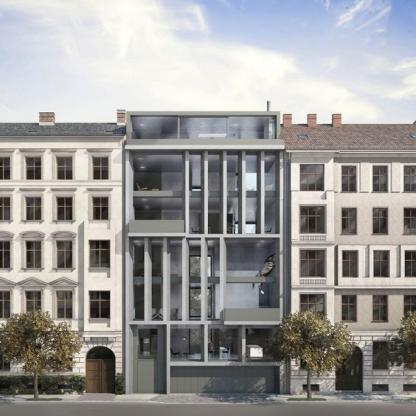Building Outline: (125, 100, 285, 395)
Door: (137, 361, 157, 394)
Facade: (125, 100, 285, 395)
Floor Slab: (126, 321, 284, 329), (126, 277, 284, 284), (126, 190, 284, 197), (126, 143, 284, 149), (126, 234, 284, 238)
Glass Wall: (226, 240, 276, 277), (226, 284, 276, 320), (133, 197, 183, 232), (133, 156, 183, 191), (131, 116, 178, 139), (229, 116, 275, 139), (180, 116, 226, 139), (246, 329, 276, 362), (171, 329, 201, 362), (209, 329, 238, 362), (137, 328, 157, 359), (208, 240, 219, 277), (133, 240, 144, 277), (152, 240, 163, 277), (171, 240, 182, 277), (190, 240, 201, 277), (208, 284, 219, 320), (152, 284, 163, 320), (190, 284, 201, 320), (171, 284, 182, 320), (133, 284, 144, 320), (265, 156, 276, 191), (190, 156, 201, 191), (209, 156, 220, 191), (228, 156, 239, 191), (247, 156, 258, 191), (265, 199, 276, 234), (190, 199, 201, 234), (209, 199, 220, 234), (228, 199, 239, 234), (247, 199, 258, 234)
Window: (129, 150, 185, 233), (224, 238, 280, 321), (264, 150, 280, 233), (207, 150, 223, 233), (226, 150, 242, 233), (129, 238, 145, 321), (185, 238, 201, 321), (204, 238, 220, 321), (245, 325, 279, 363), (171, 325, 205, 363), (208, 325, 242, 363), (246, 150, 261, 233), (148, 238, 163, 321), (189, 150, 204, 233), (167, 238, 182, 321)
